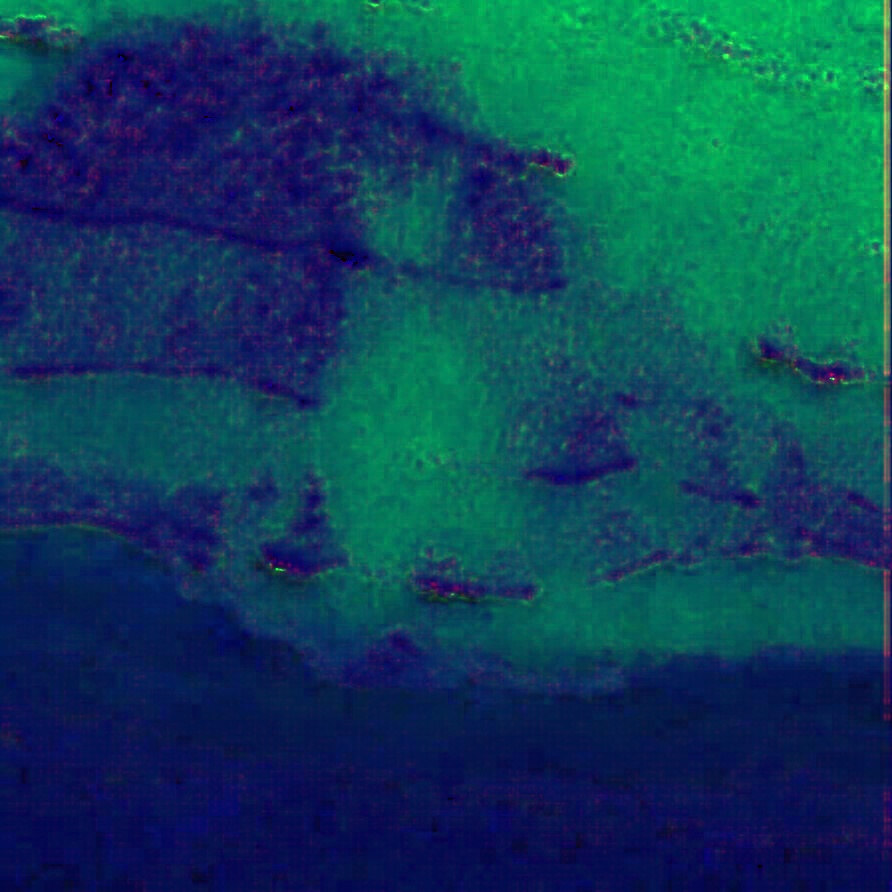rip_current: (276, 65, 617, 651)
